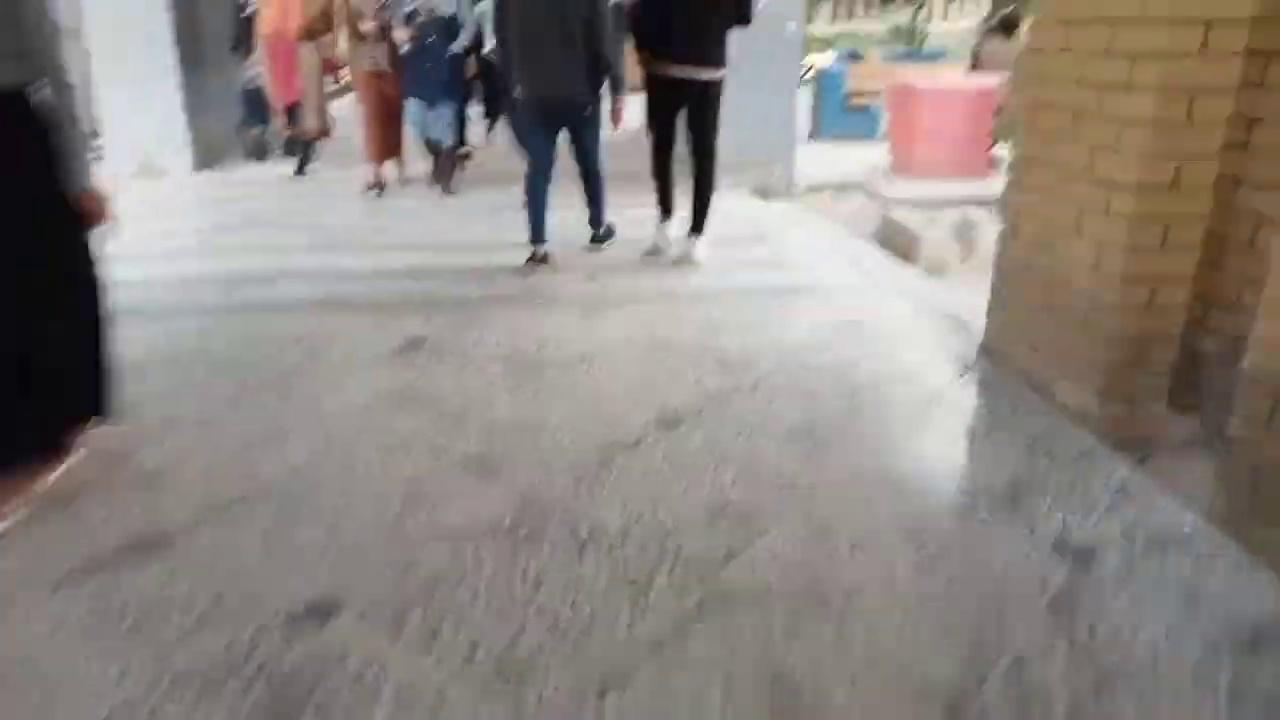person: (0, 0, 112, 528), (491, 0, 626, 270), (626, 0, 752, 262), (222, 0, 335, 173), (389, 0, 476, 193), (336, 0, 404, 201)
